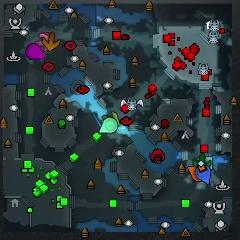p1: (195, 164, 212, 185)
p2: (99, 117, 118, 133)
p3: (25, 43, 45, 61)
p5: (187, 166, 199, 182)
x1: (38, 33, 48, 46)
x2: (104, 111, 119, 124)
x3: (203, 156, 213, 169)
x4: (194, 153, 212, 169)
x5: (42, 31, 61, 51)
